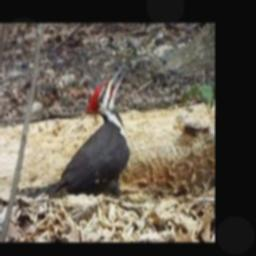Woodpecker: (27, 68, 131, 199)
